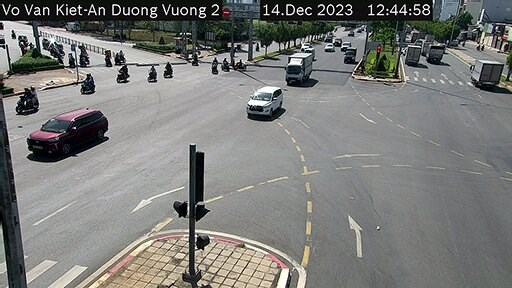car: (29, 112, 109, 165), (250, 85, 284, 117)
motorbike: (10, 85, 39, 114), (74, 76, 99, 95), (231, 56, 249, 77), (115, 63, 130, 85), (142, 64, 159, 81), (160, 58, 173, 79), (219, 55, 230, 76), (211, 54, 219, 77)
truck: (470, 57, 500, 88), (288, 50, 314, 85), (426, 40, 454, 70), (400, 44, 421, 71), (341, 46, 361, 68)
